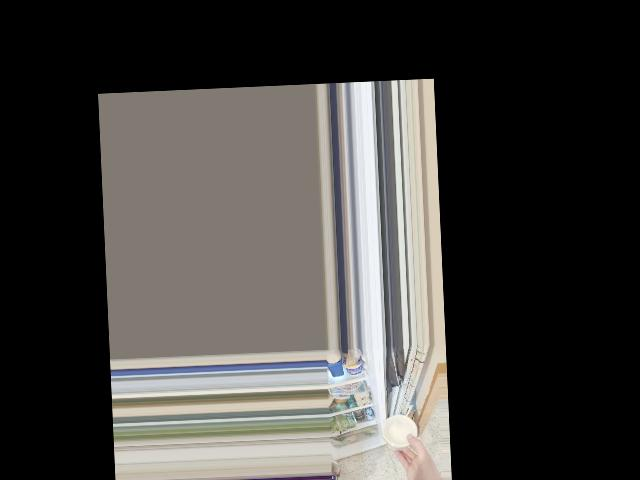cotage: (379, 409, 416, 447)
